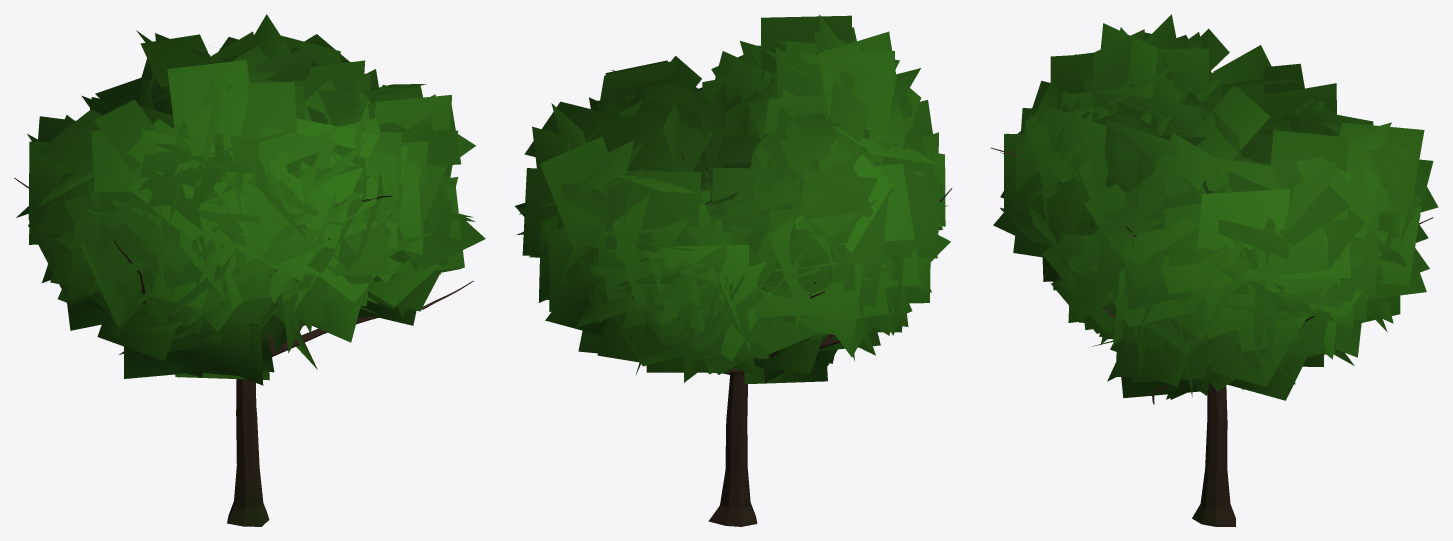
File: street.glb
3 renders of one model, left to right at view 1: azimuth 30°, elevation 25°; view 2: azimuth 150°, elevation 25°; view 3: azimuth 270°, elevation 25°, orthographic. The views are drawn at different scales.
Parts seen in each view (by area): view 1: tree_street_2, tree_street_1, tree_street_0; view 2: tree_street_2, tree_street_0, tree_street_1; view 3: tree_street_2, tree_street_0, tree_street_1.
Part boxes in pixels (x1,y1,x2,y2): tree_street_2: (37, 30, 475, 526); tree_street_1: (28, 58, 485, 526); tree_street_0: (14, 14, 431, 526); tree_street_2: (549, 14, 952, 526); tree_street_0: (514, 51, 943, 526); tree_street_1: (545, 87, 948, 526); tree_street_2: (991, 14, 1429, 526); tree_street_0: (1000, 83, 1415, 524); tree_street_1: (993, 35, 1438, 526).
Bounding box in the file's own units: 7.15 × 8.3 × 7.39.
